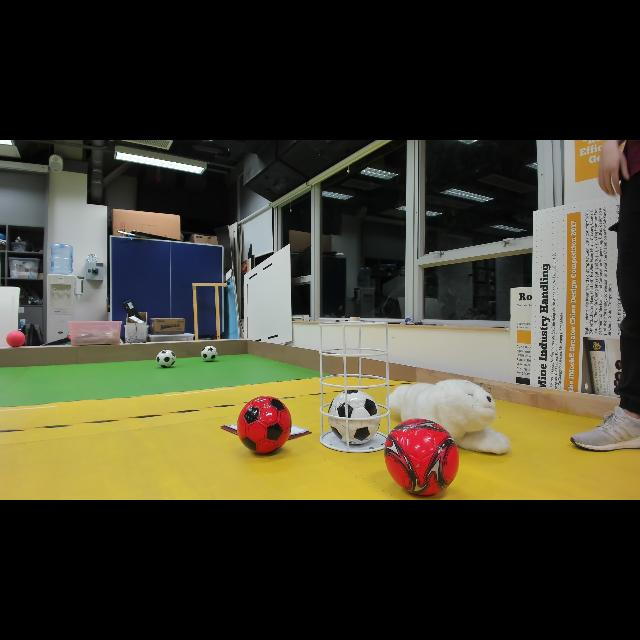R: (381, 416, 461, 499), (233, 392, 294, 456), (4, 329, 30, 347)
S: (316, 316, 394, 456)
